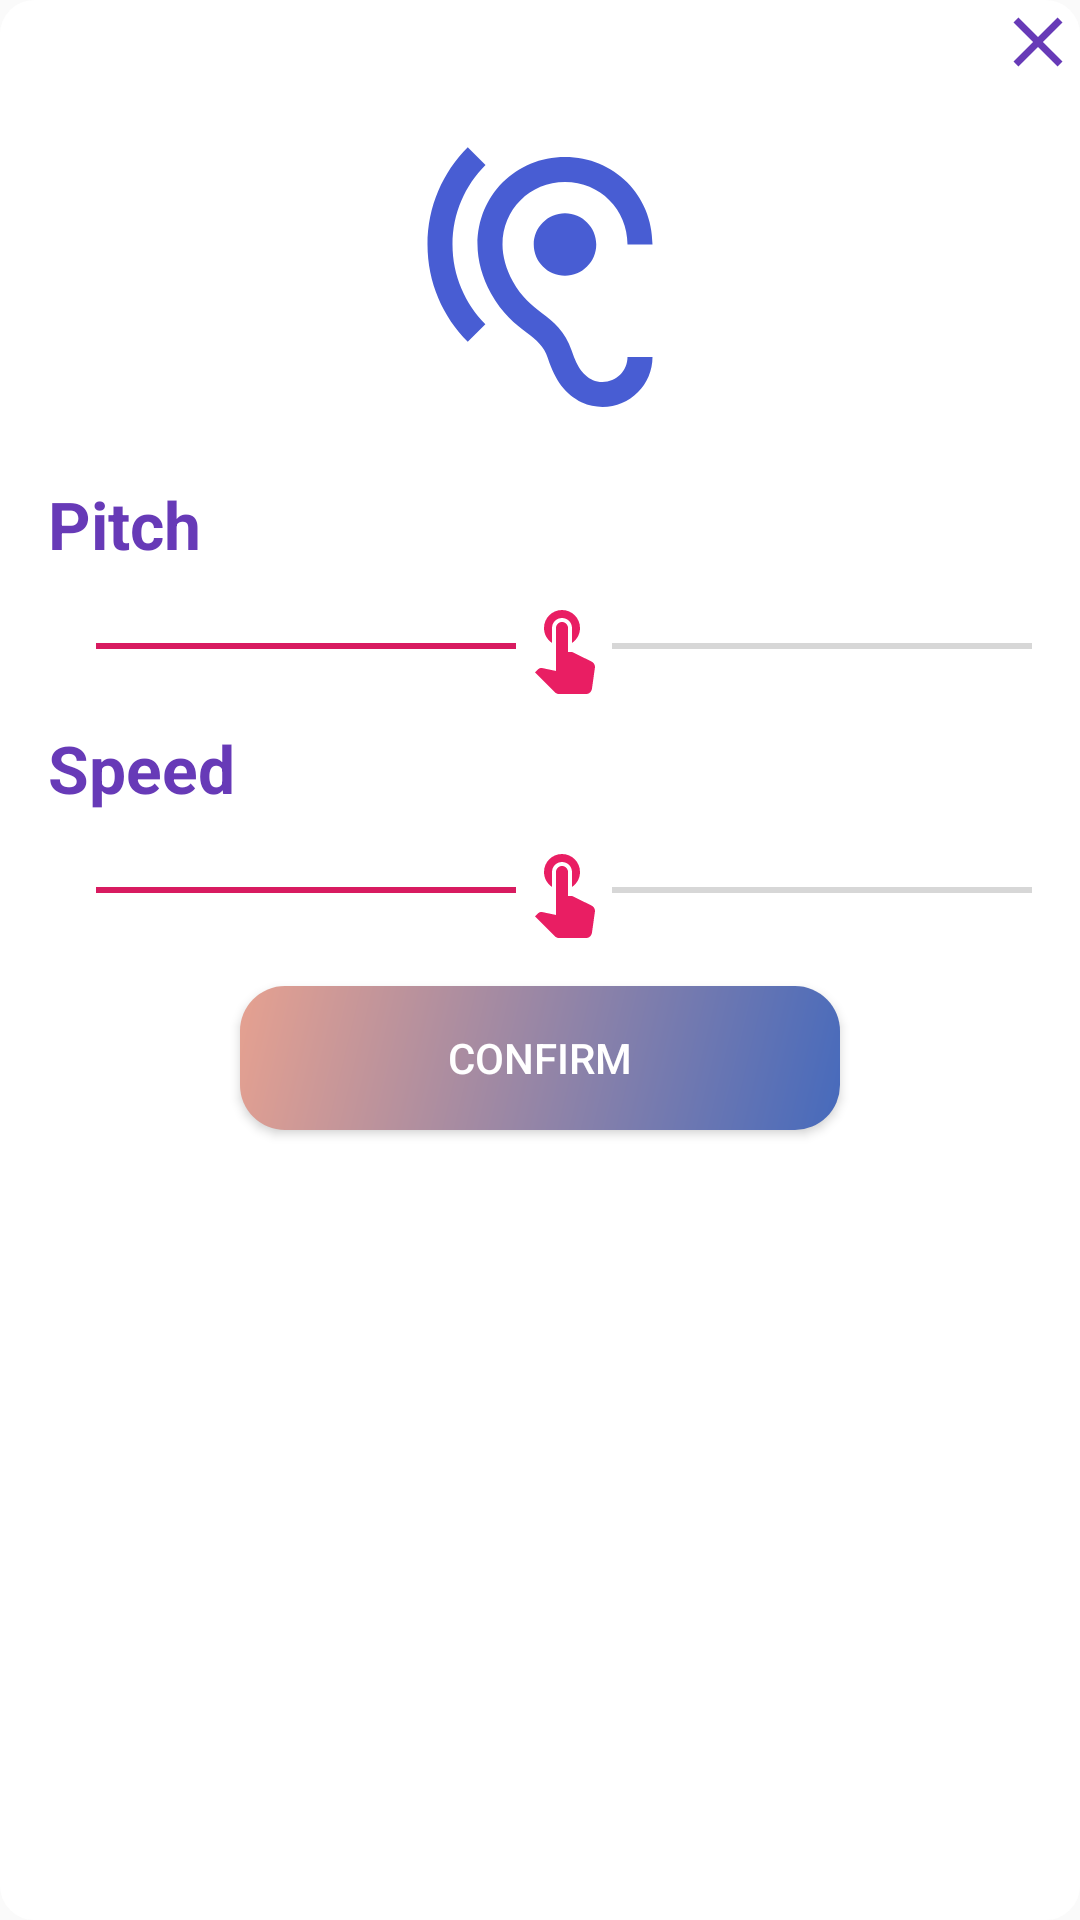

Named icons in this screenshot (1080 × 1920) and their bounding boxes, (x1, y1, x2, y2):
close: (1013, 17, 1063, 67)
hearing: (427, 147, 653, 407)
